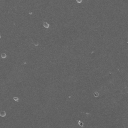corrosion: (76, 119, 85, 128), (42, 20, 50, 30), (1, 51, 8, 60), (1, 110, 8, 118), (12, 95, 19, 102), (93, 91, 100, 98), (32, 41, 39, 47), (76, 1, 83, 4)
